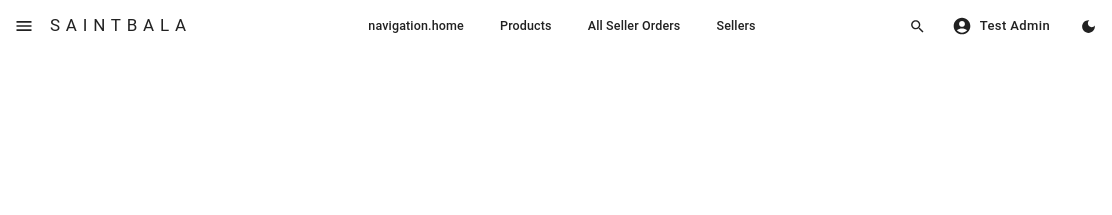
Test: AdminsHeaderbar › should show logout button when logged in
Click the button "Test Admin": (1003, 26) [944, 8, 1062, 44]
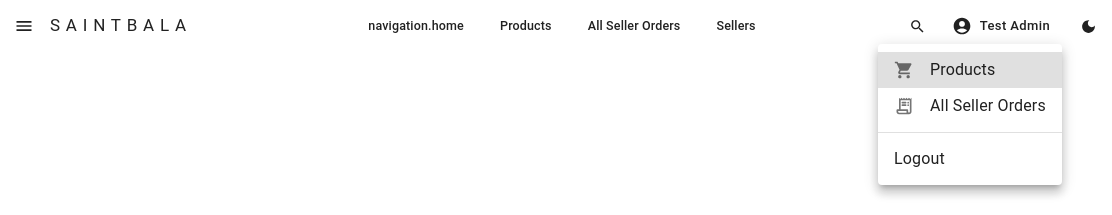
Expected: the menu item "Logout" is shown, [894, 149, 945, 168]
